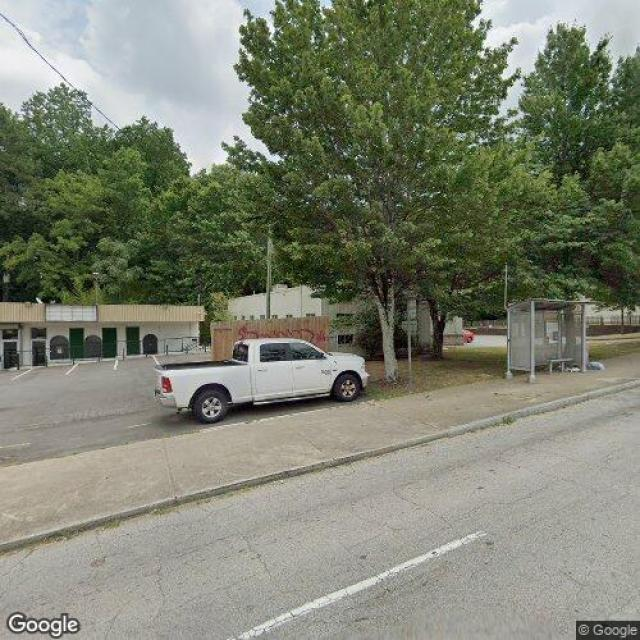seating: (546, 357, 572, 376)
shelter: (506, 297, 596, 383)
